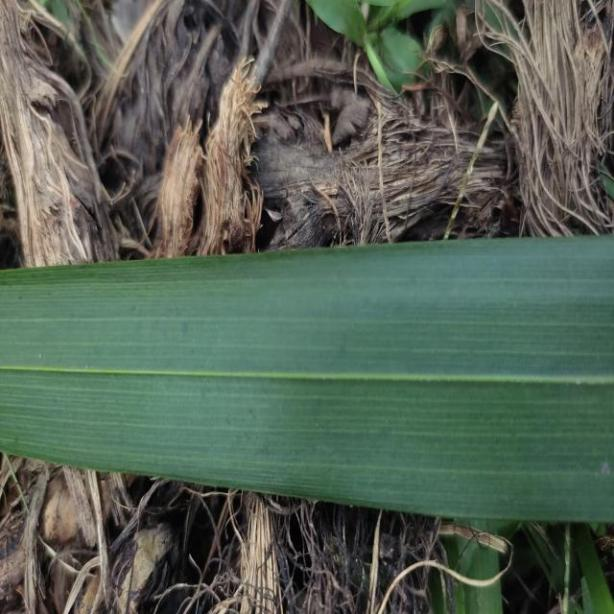Healthy: (0, 233, 614, 523)
